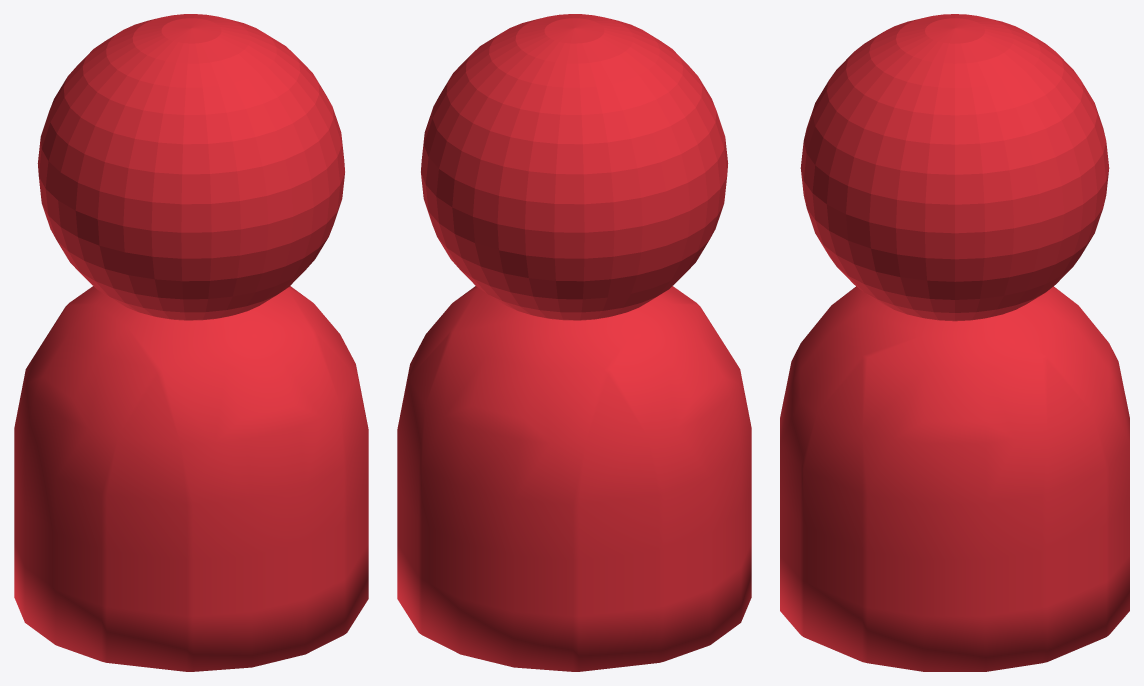
The model's file is enemy.glb.
The picture shows the model from 3 angles, left to right: view 1: azimuth 30°, elevation 25°; view 2: azimuth 150°, elevation 25°; view 3: azimuth 270°, elevation 25°; orthographic projection.
Visible parts, largest first — view 1: Mball.001; view 2: Mball.001; view 3: Mball.001.
Part boxes in pixels (box(x1,y1,x2,y2)): Mball.001: box(14, 14, 368, 671); Mball.001: box(397, 14, 751, 671); Mball.001: box(780, 14, 1129, 671).
Bounding box in the file's own units: 2.27 × 4.08 × 2.27.
